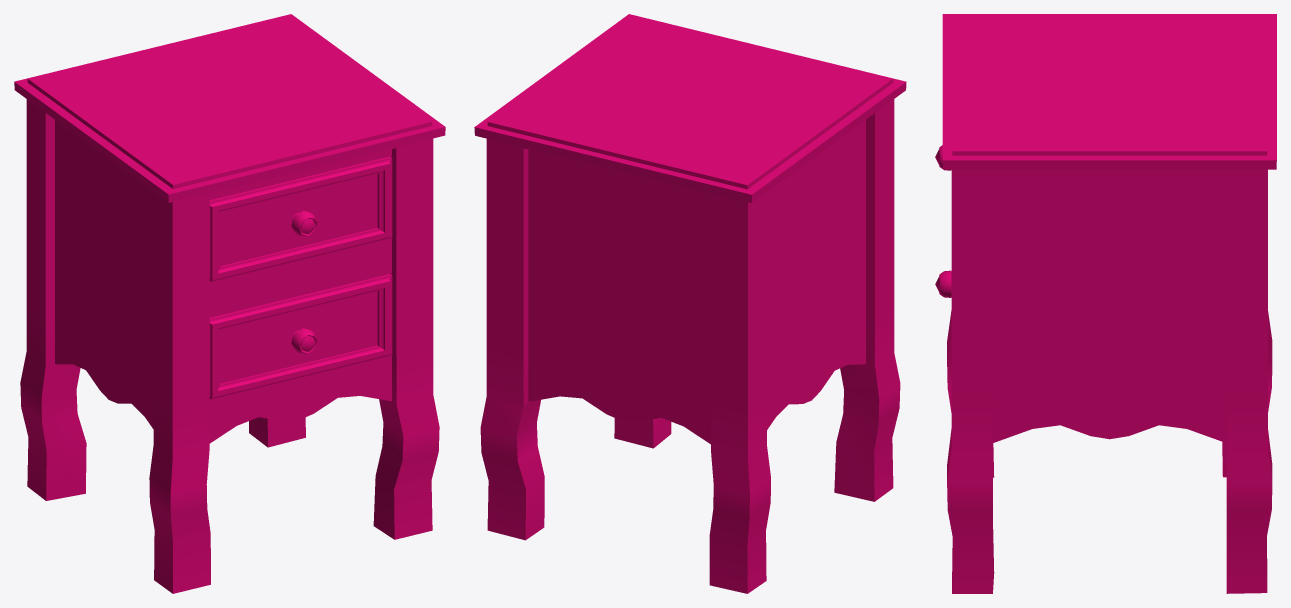
File: Bedside-Table.fbx
The picture shows the model from 3 angles, left to right: view 1: azimuth 30°, elevation 25°; view 2: azimuth 150°, elevation 25°; view 3: azimuth 270°, elevation 25°; orthographic projection. The views are drawn at different scales.
Visible parts, largest first — view 1: Bedside-Table_low.001, Bedside-Table-Drawer_low.002, Bedside-Table-Drawer_low.003; view 2: Bedside-Table_low.001; view 3: Bedside-Table_low.001.
Boxes of the visible parts, x1,y1,x2,y2 form: Bedside-Table_low.001: (14,14,445,593); Bedside-Table-Drawer_low.002: (209,274,392,399); Bedside-Table-Drawer_low.003: (209,156,392,282); Bedside-Table_low.001: (474,14,906,593); Bedside-Table_low.001: (942,14,1276,593).
Size of the model in its own units: 88.84 by 87.66 by 125.
